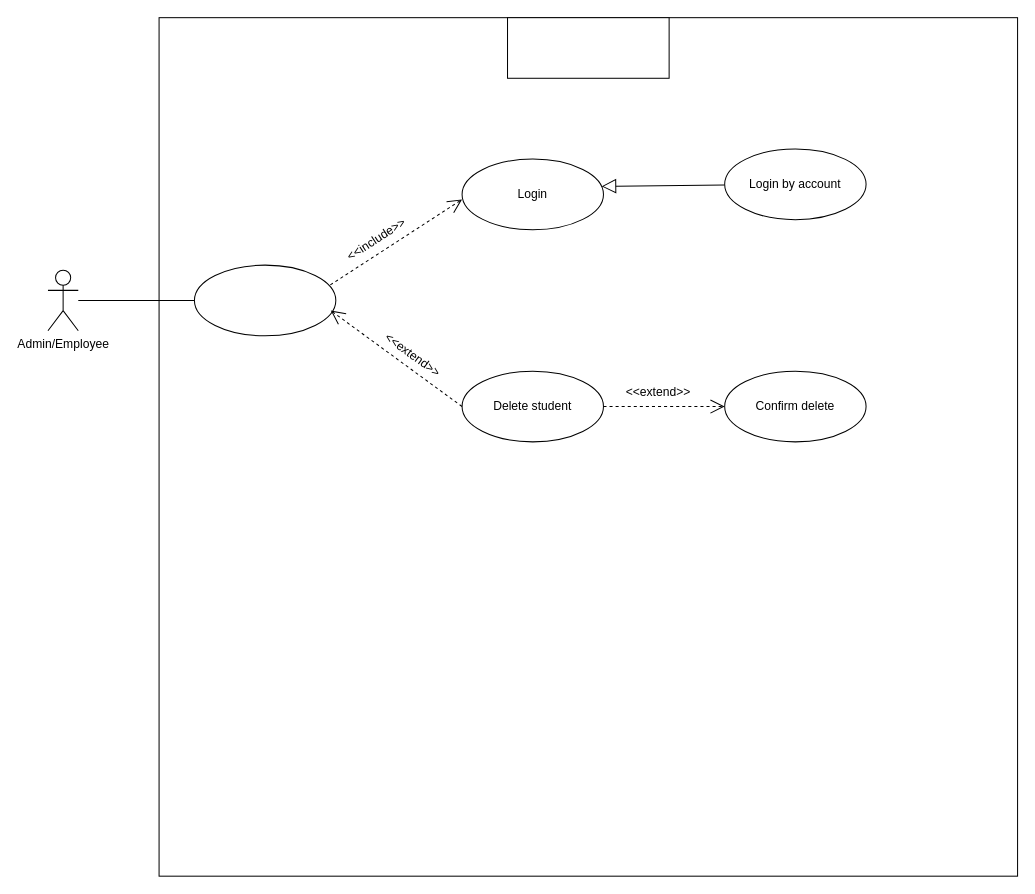
Image size: 1035x894. Some labels were removed from this diagram. The shapes that lost their labels are listed below. From the top down, each one's centre as x and y in pixels, then its label:
At (588,47): "Fashion Shop".
At (264,300): "View list student".
